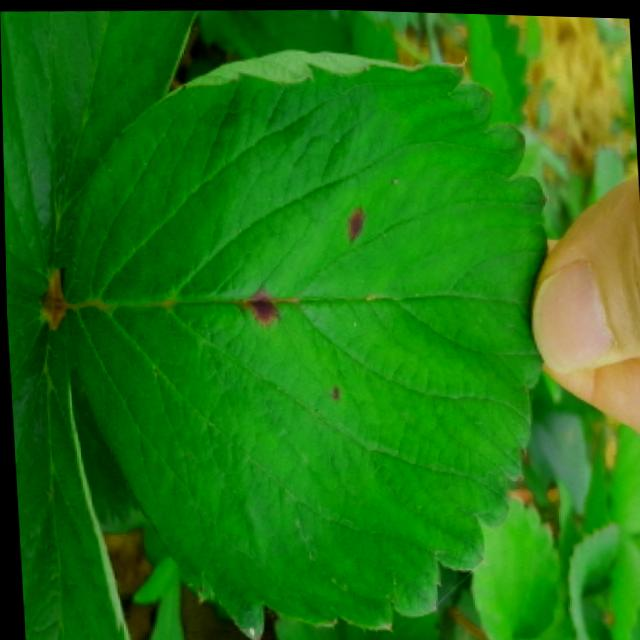Leaf Spot: (60, 48, 549, 640)
